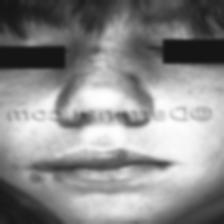Toxin: (23, 161, 52, 185), (79, 46, 105, 64), (110, 149, 127, 160), (123, 76, 141, 86)
